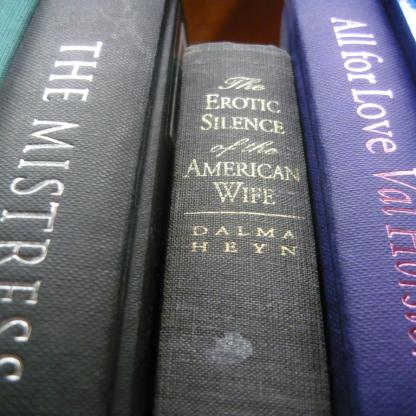book: (0, 0, 190, 415), (274, 0, 416, 416), (165, 38, 320, 288)
